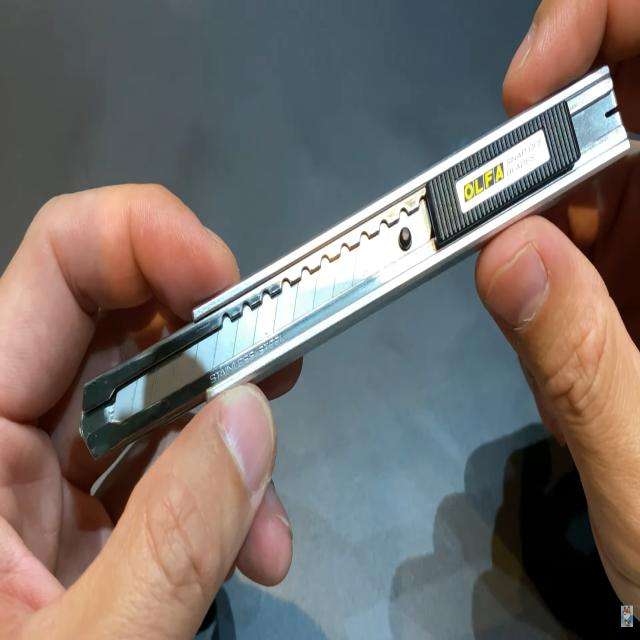cutter: (77, 57, 633, 466)
